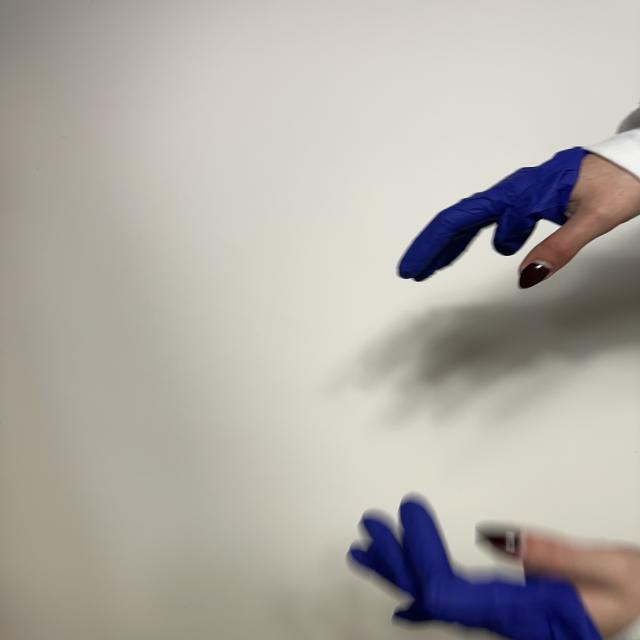glove_partial: (350, 498, 640, 640), (399, 148, 640, 288)
